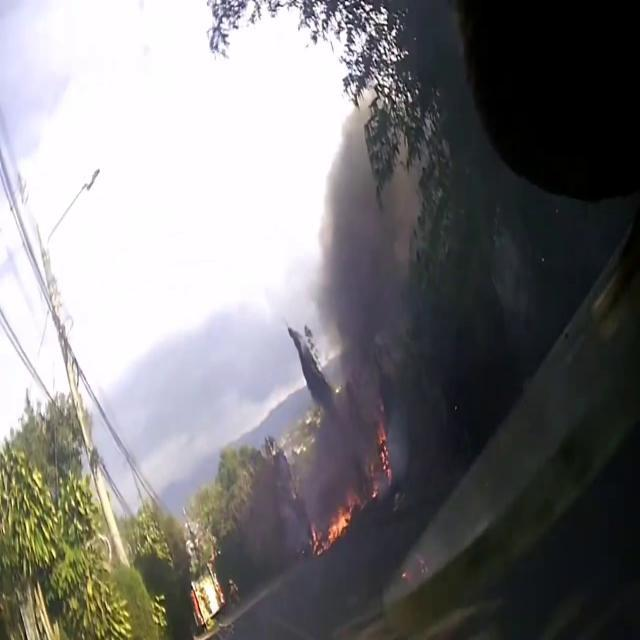Fire: (310, 500, 354, 558)
Smoke: (294, 34, 540, 512)
